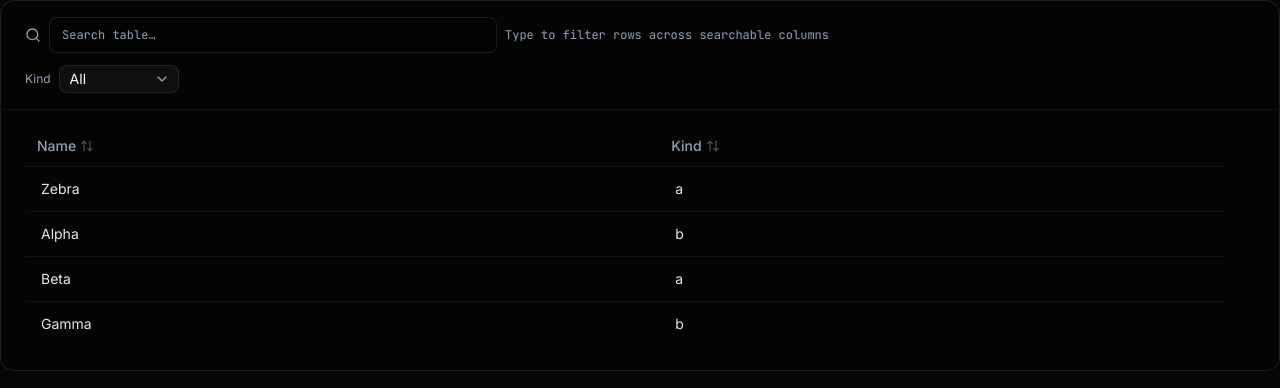
Test: TsocDataTable › filters rows via search input
Type "zebra" into the field labelled "Search table" at {"x": 273, "y": 35}, box [49,17,497,53]
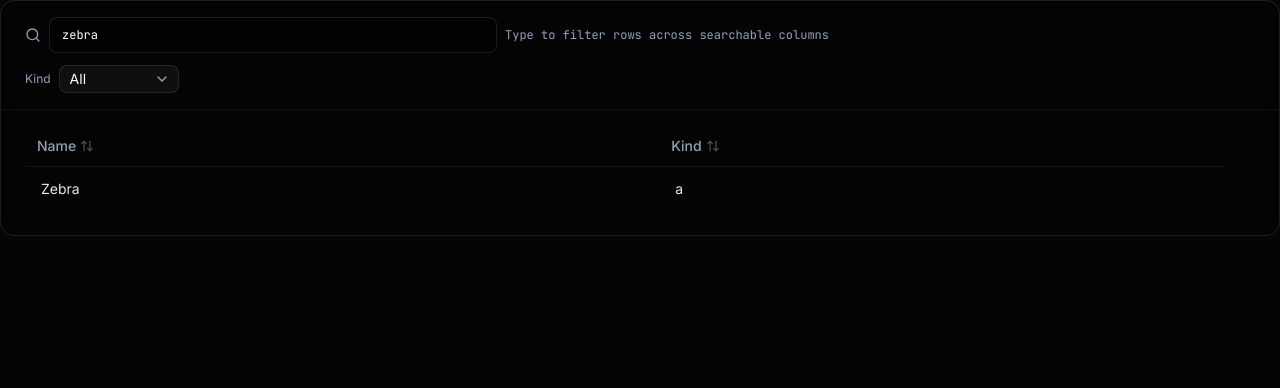
Expected: the text "Zebra" is shown, [25,166,659,210]
Now the text "Alpha" is gone
